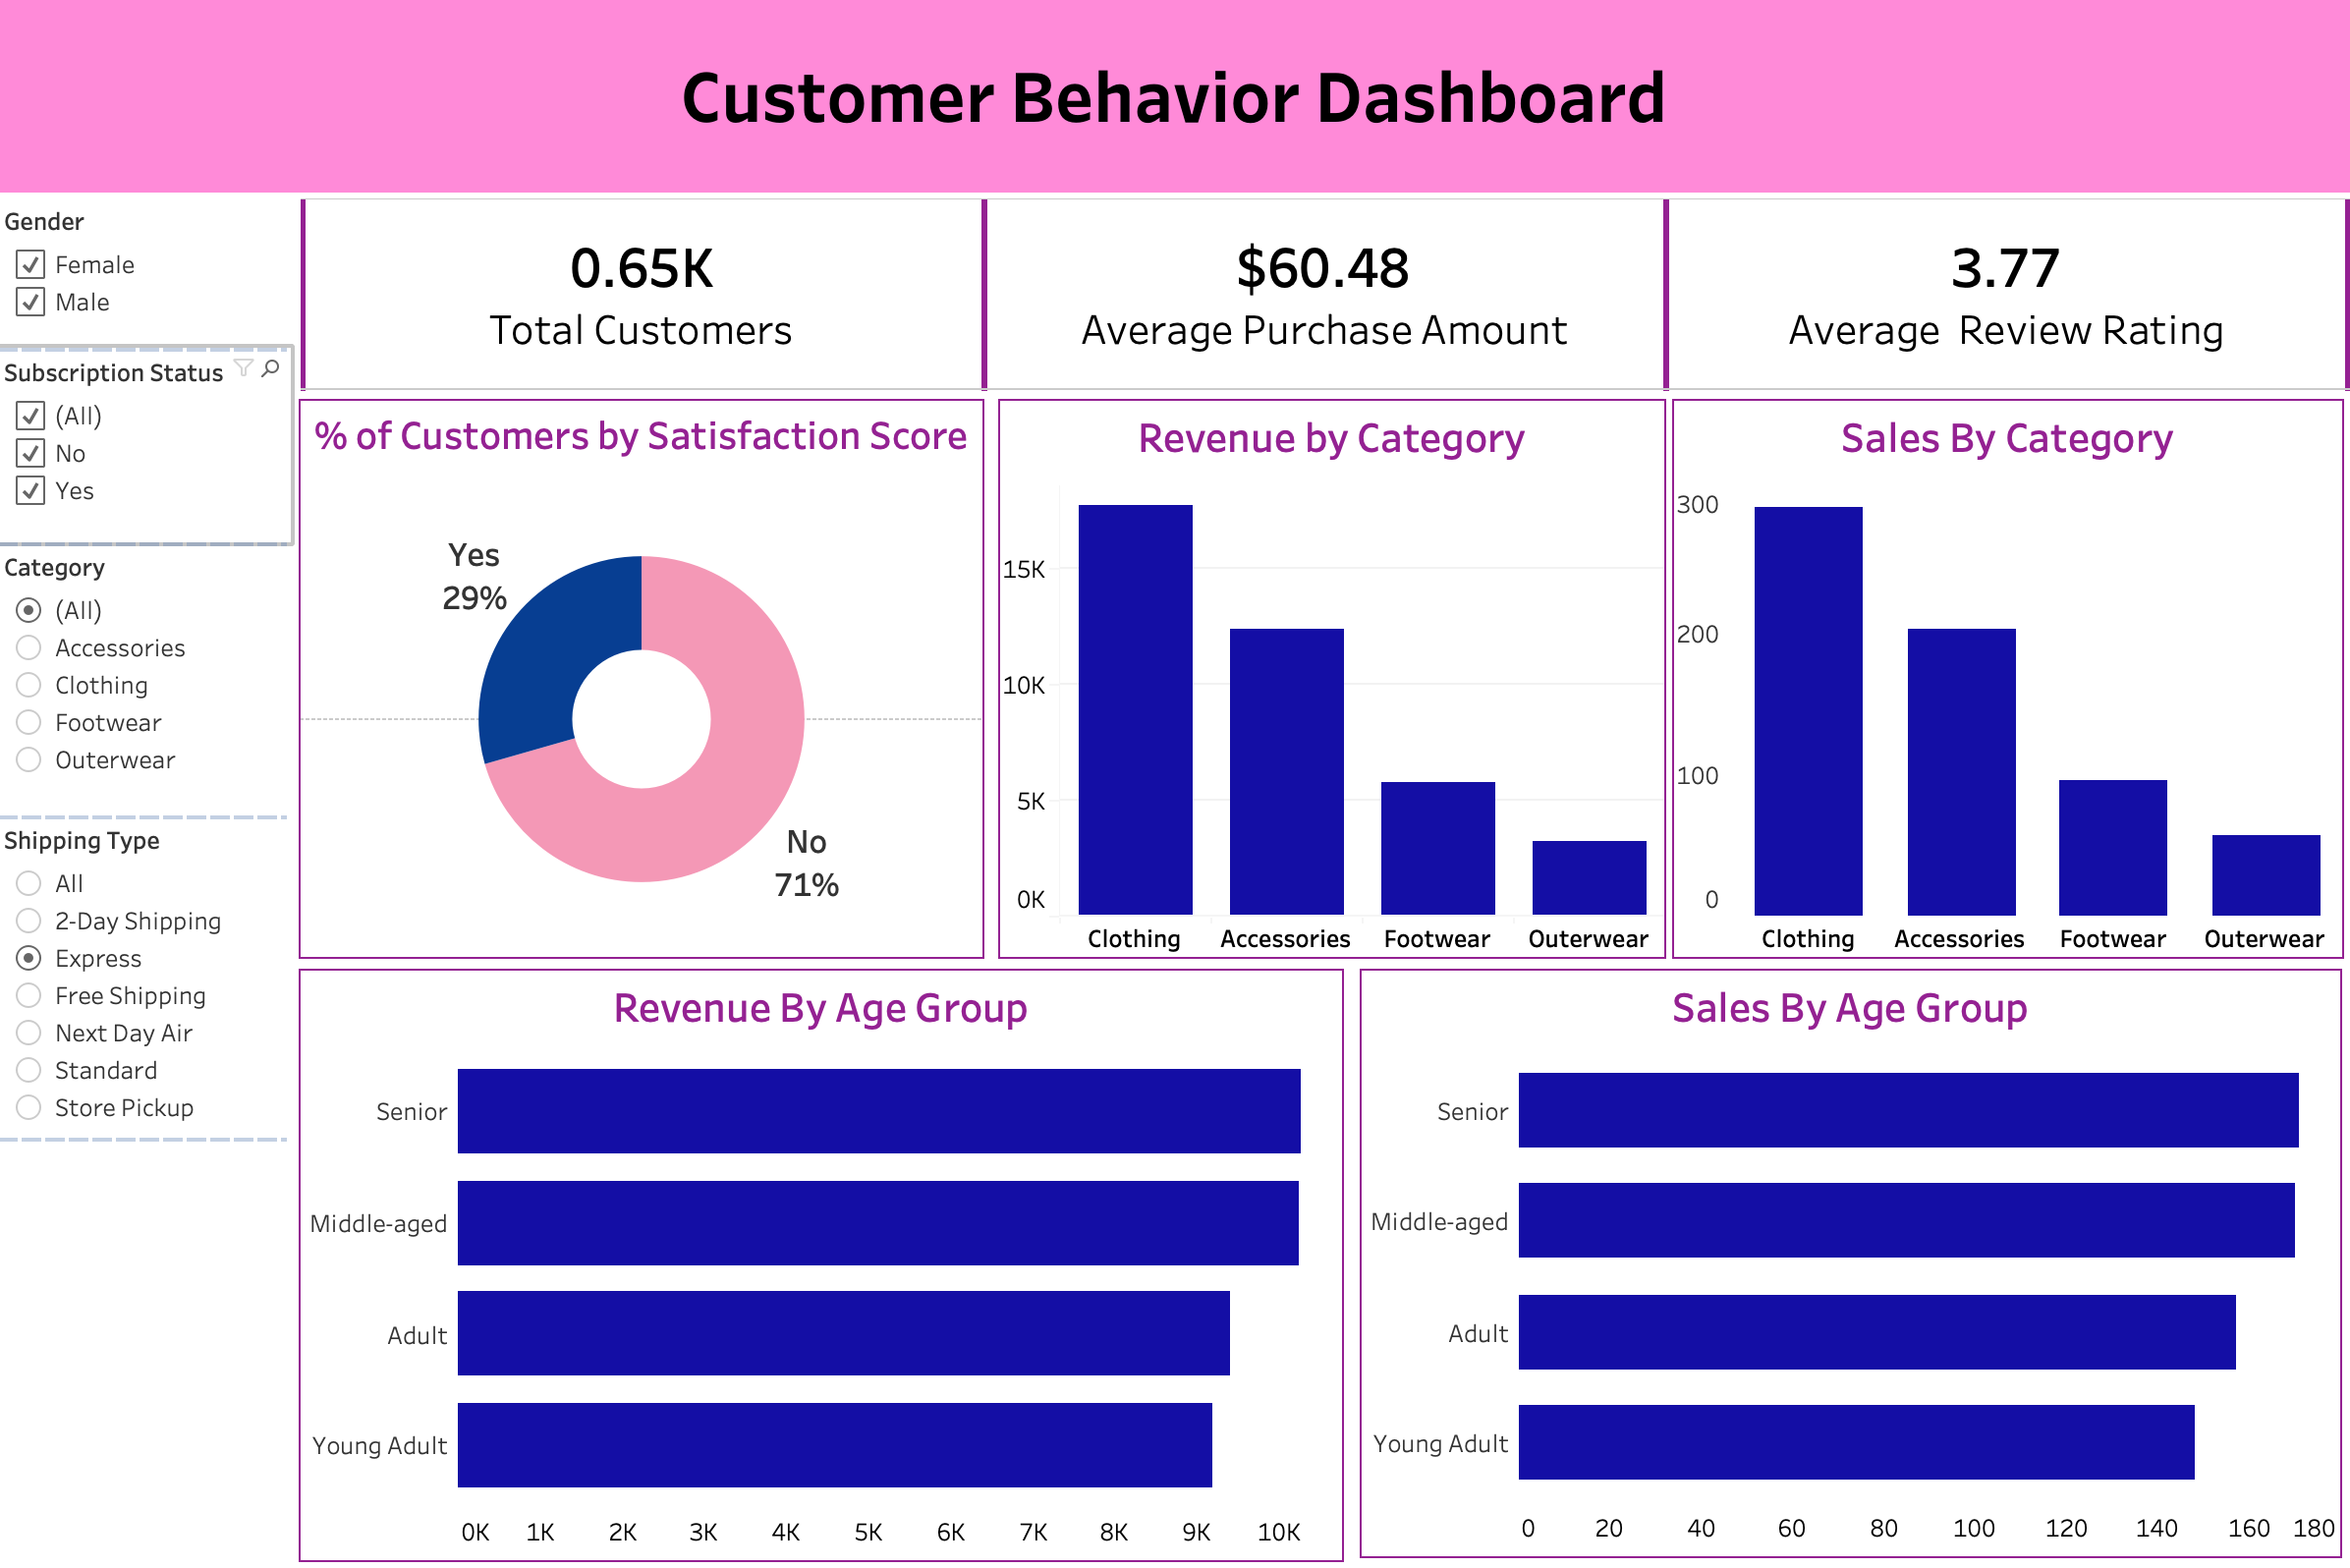

This screenshot's page, from the dashboard's own definition file:
{"tool":"tableau","page":{"name":"Dashboard 1","canvas":[1200,800],"ordinal":0},"visuals":[{"type":"text","box":[0,0,1199,100]},{"type":"filter","title":"Revenue by Category","param":"[federated.1cs1kfr0bprf3v18fbf0o1gqlm1t].[none:gender:nk]","box":[0,102,150,77]},{"type":"worksheet","title":"KPIs","mark":"Automatic","box":[154,102,1046,100]},{"type":"filter","title":"Sales By Category","param":"[federated.1cs1kfr0bprf3v18fbf0o1gqlm1t].[none:subscription_status:nk]","box":[0,179,150,99]},{"type":"worksheet","title":"% of Customers by Satisfaction Score","mark":"Pie","rows":["Calculation_1143134144069634","Calculation_1143134144352262"],"box":[154,205,349,285]},{"type":"worksheet","title":"Revenue by Category","mark":"Automatic","rows":["purchase_amount"],"cols":["category"],"box":[510,205,340,285]},{"type":"worksheet","title":"Sales By Category","mark":"Automatic","rows":["customer_id"],"cols":["category"],"box":[853,205,342,285]},{"type":"filter","title":"Sales By Category","param":"[federated.1cs1kfr0bprf3v18fbf0o1gqlm1t].[none:category:nk]","box":[0,278,150,139]},{"type":"parameter","param":"[Parameters].[Parameter 1143134128685056]","box":[0,417,150,164]},{"type":"worksheet","title":"Revenue By Age Group","mark":"Automatic","rows":["age_group"],"cols":["purchase_amount"],"box":[154,495,532,302]},{"type":"worksheet","title":"Sales By Age Group","mark":"Automatic","rows":["age_group"],"cols":["customer_id"],"box":[694,495,500,300]}]}

Visuals, with their boxes in screenshot pixels (x1, y1, x2, y2), scaled from the page's 1200x800 canvas onto the 2350x1568 screenshot:
text: <bbox>0, 0, 2348, 196</bbox>
"Revenue by Category" filter: <bbox>0, 199, 294, 351</bbox>
"KPIs" worksheet: <bbox>302, 199, 2349, 396</bbox>
"Sales By Category" filter: <bbox>0, 351, 294, 545</bbox>
"% of Customers by Satisfaction Score" worksheet (Pie marks): <bbox>302, 402, 985, 961</bbox>
"Revenue by Category" worksheet: <bbox>999, 402, 1664, 961</bbox>
"Sales By Category" worksheet: <bbox>1670, 402, 2340, 961</bbox>
"Sales By Category" filter: <bbox>0, 545, 294, 817</bbox>
parameter: <bbox>0, 817, 294, 1139</bbox>
"Revenue By Age Group" worksheet: <bbox>302, 971, 1343, 1562</bbox>
"Sales By Age Group" worksheet: <bbox>1359, 971, 2338, 1558</bbox>
